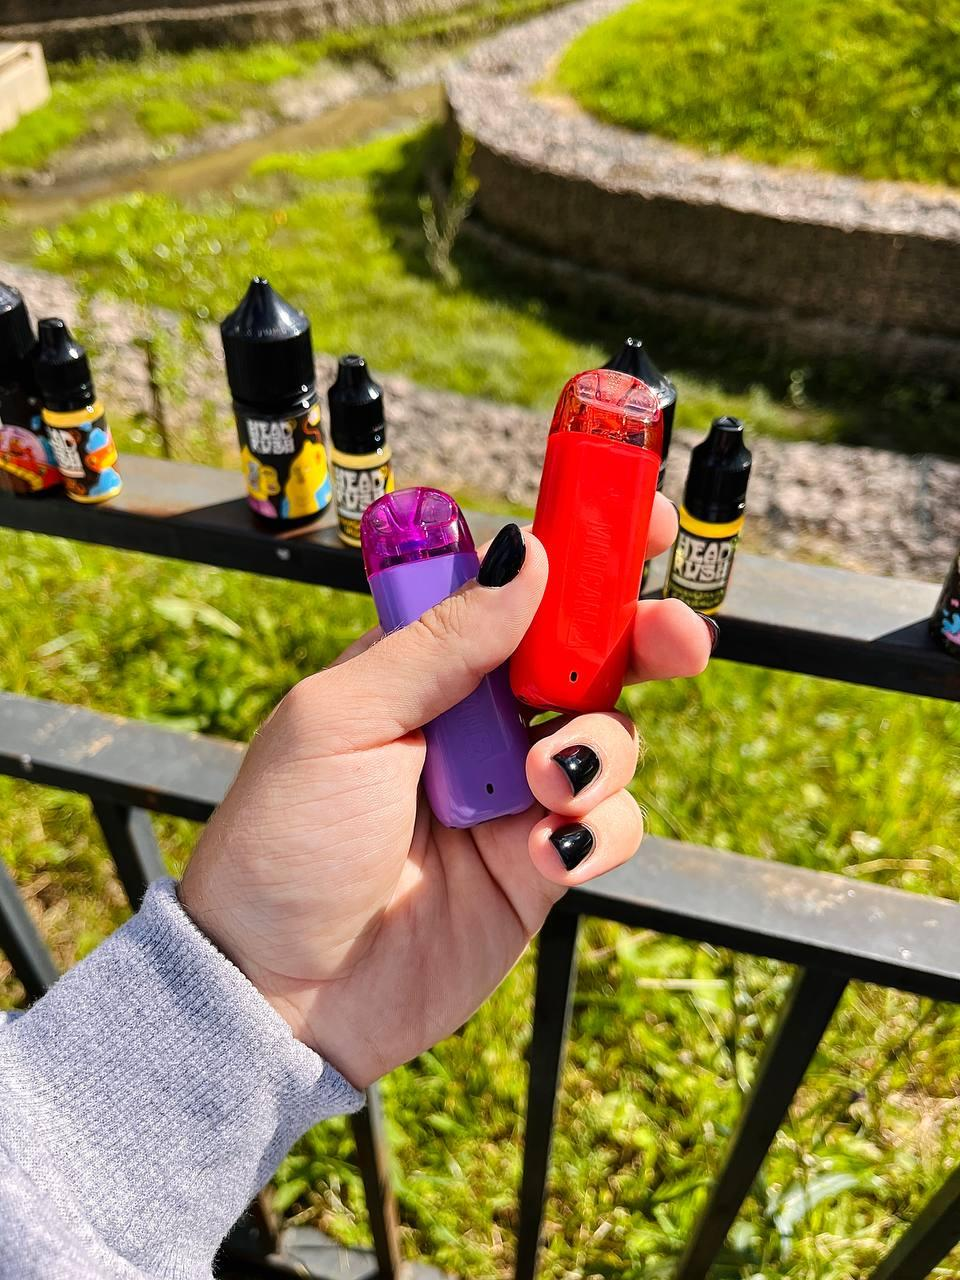Vape: (360, 488, 535, 830), (511, 367, 663, 712)
